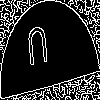U: (25, 24, 50, 76)
